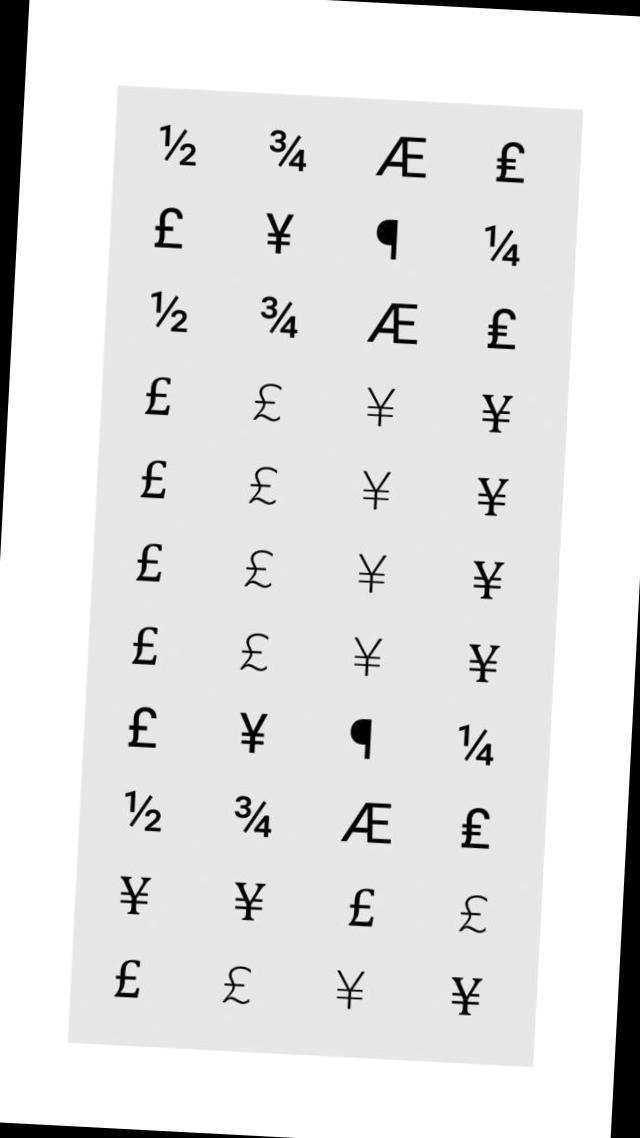ASCII: (370, 128, 438, 188), (366, 295, 424, 356), (340, 790, 398, 851), (146, 113, 203, 175), (254, 288, 306, 350), (229, 788, 278, 848), (146, 282, 194, 343), (264, 122, 312, 180), (120, 784, 168, 842), (454, 714, 500, 774), (489, 134, 537, 191), (445, 966, 488, 1029), (230, 869, 272, 931), (150, 199, 192, 261), (476, 384, 517, 447), (481, 219, 526, 276), (115, 863, 156, 925), (454, 799, 496, 859), (246, 374, 287, 434), (482, 297, 522, 358), (242, 456, 282, 516), (124, 701, 164, 761), (462, 635, 503, 693), (472, 468, 512, 527), (238, 542, 277, 602), (259, 206, 299, 264), (468, 550, 508, 608), (356, 462, 396, 520), (362, 380, 401, 439), (330, 964, 370, 1021), (348, 630, 388, 687), (108, 952, 146, 1012), (235, 624, 274, 682), (140, 370, 178, 429), (218, 950, 255, 1010), (344, 876, 382, 934), (352, 545, 392, 600), (234, 704, 272, 761), (131, 537, 169, 594), (136, 450, 173, 508), (456, 884, 494, 940), (126, 620, 162, 678), (370, 210, 403, 264), (344, 712, 377, 764)
